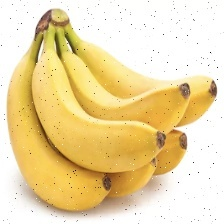banana: (48, 36, 193, 224)
